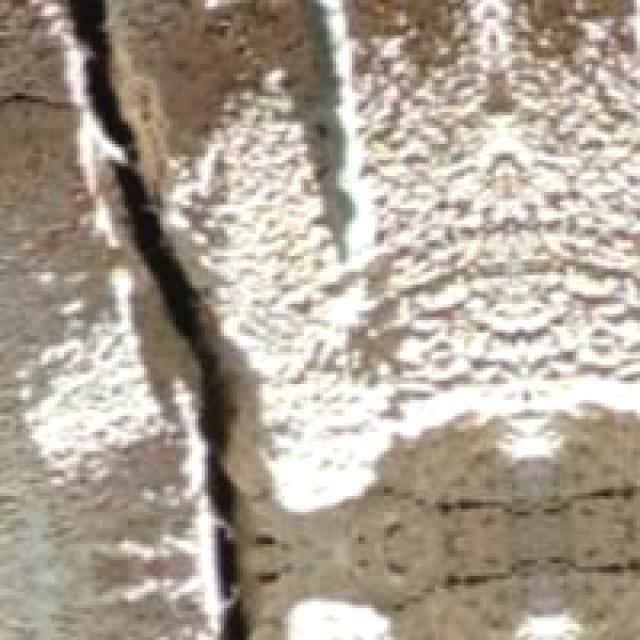crack: (52, 0, 302, 640)
